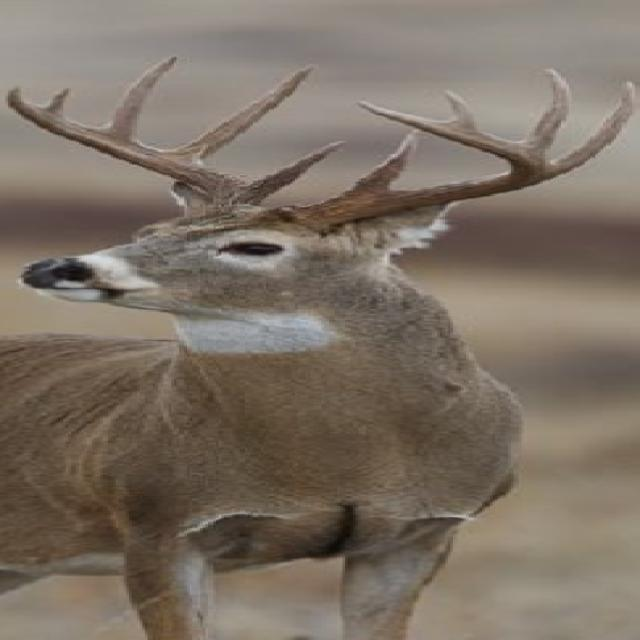L-F: (269, 99, 551, 233)
L-G1: (340, 130, 420, 195)
L-G2: (552, 77, 635, 178)
L-G3: (517, 67, 573, 156)
L-G4: (443, 87, 478, 130)
R-F: (4, 85, 264, 218)
R-G1: (249, 138, 348, 199)
R-G2: (168, 63, 318, 165)
R-G3: (98, 54, 180, 141)
R-G4: (41, 85, 75, 117)
